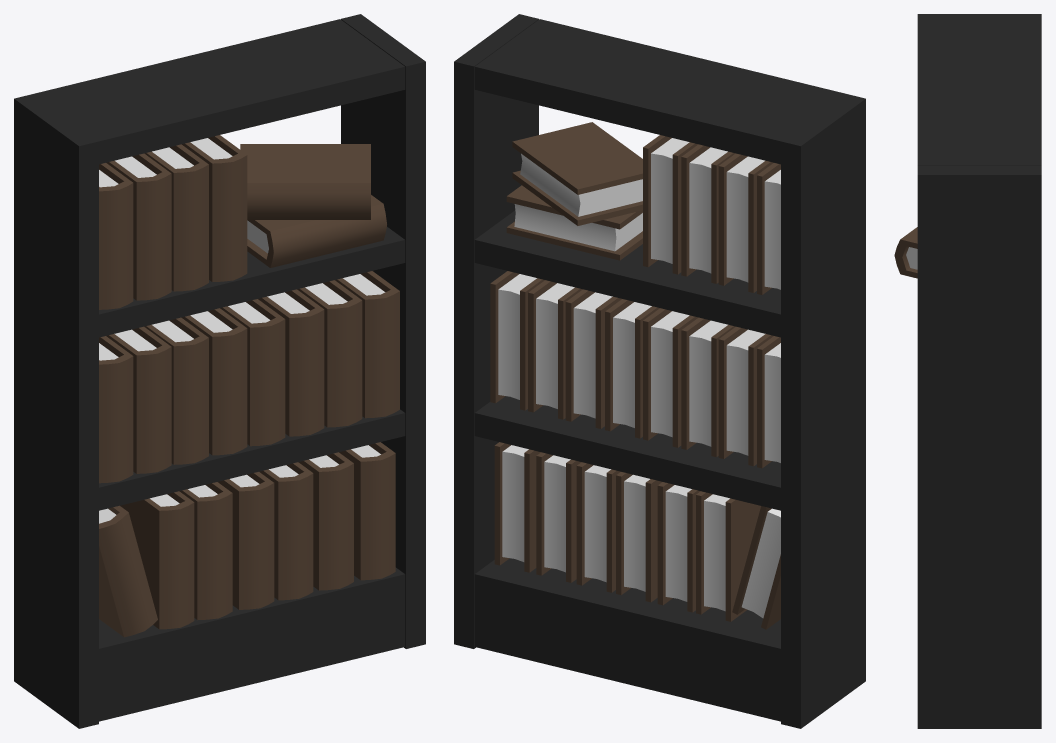
Rendered from Bookshelf.fbx.
3 views of the same model, side by side, from view 1: azimuth 30°, elevation 25°; view 2: azimuth 150°, elevation 25°; view 3: azimuth 270°, elevation 25° (orthographic). The views are drawn at different scales.
Visible parts, largest first — view 1: polySurface1579, polySurface1541, polySurface1536, polySurface1537, polySurface2256, polySurface1540, polySurface1535, polySurface2219, polySurface2215, polySurface2224, polySurface1571, polySurface2222 (+15 smaller); view 2: polySurface1579, polySurface1536, polySurface1541, polySurface1537, polySurface1535, polySurface1540, polySurface2256, polySurface2219, polySurface2254, polySurface2236, polySurface2228, polySurface2231 (+36 smaller); view 3: polySurface1537, polySurface1541, polySurface1579, polySurface2256.
Part boxes in pixels (x1,y1,x2,y2): polySurface1579: [14, 94, 98, 728]; polySurface1541: [34, 19, 405, 164]; polySurface1536: [98, 567, 405, 721]; polySurface1537: [341, 14, 425, 648]; polySurface2256: [240, 144, 370, 219]; polySurface1540: [98, 227, 405, 337]; polySurface1535: [99, 409, 405, 510]; polySurface2219: [120, 491, 194, 629]; polySurface2215: [218, 472, 274, 609]; polySurface2224: [258, 289, 324, 436]; polySurface1571: [339, 442, 395, 580]; polySurface2222: [99, 505, 157, 637]; polySurface1579: [781, 94, 865, 728]; polySurface1536: [474, 558, 781, 721]; polySurface1541: [474, 19, 845, 164]; polySurface1537: [454, 14, 538, 648]; polySurface1535: [474, 396, 781, 510]; polySurface1540: [474, 210, 781, 337]; polySurface2256: [512, 122, 642, 225]; polySurface2219: [696, 491, 760, 621]; polySurface2254: [514, 204, 642, 251]; polySurface2236: [726, 329, 765, 455]; polySurface2228: [689, 320, 727, 446]; polySurface2231: [573, 292, 612, 418]; polySurface1537: [917, 165, 1041, 728]; polySurface1541: [917, 22, 1041, 165]; polySurface1579: [917, 14, 1041, 23]; polySurface2256: [894, 227, 917, 278].
Size of the model in its own units: 1.33 by 2.14 by 0.5141.
